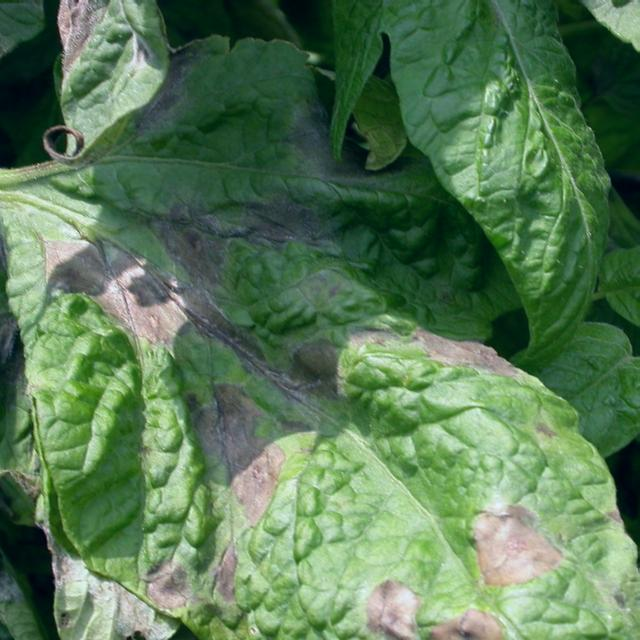Tomato leaf late blight: (0, 148, 640, 640)
